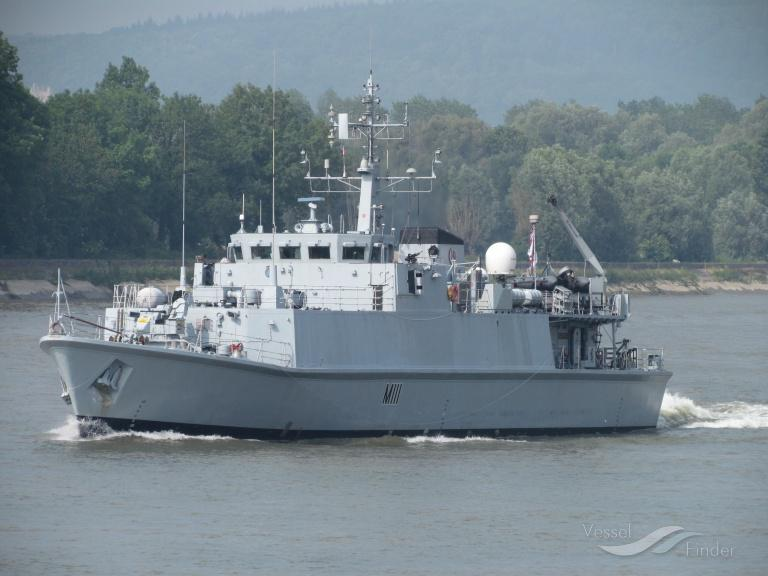OCR: (382, 376, 408, 411)
